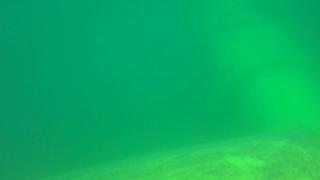pipe: (197, 1, 320, 129), (45, 130, 320, 180)
